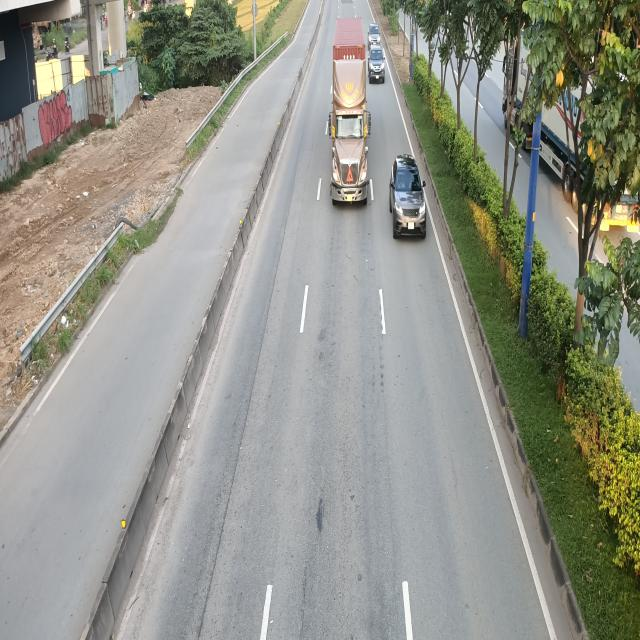car: (388, 157, 426, 241), (366, 46, 384, 84), (367, 24, 380, 46)
container: (328, 17, 373, 207)
